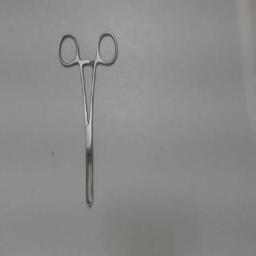Allis Tissue Forceps: (53, 28, 123, 218)
